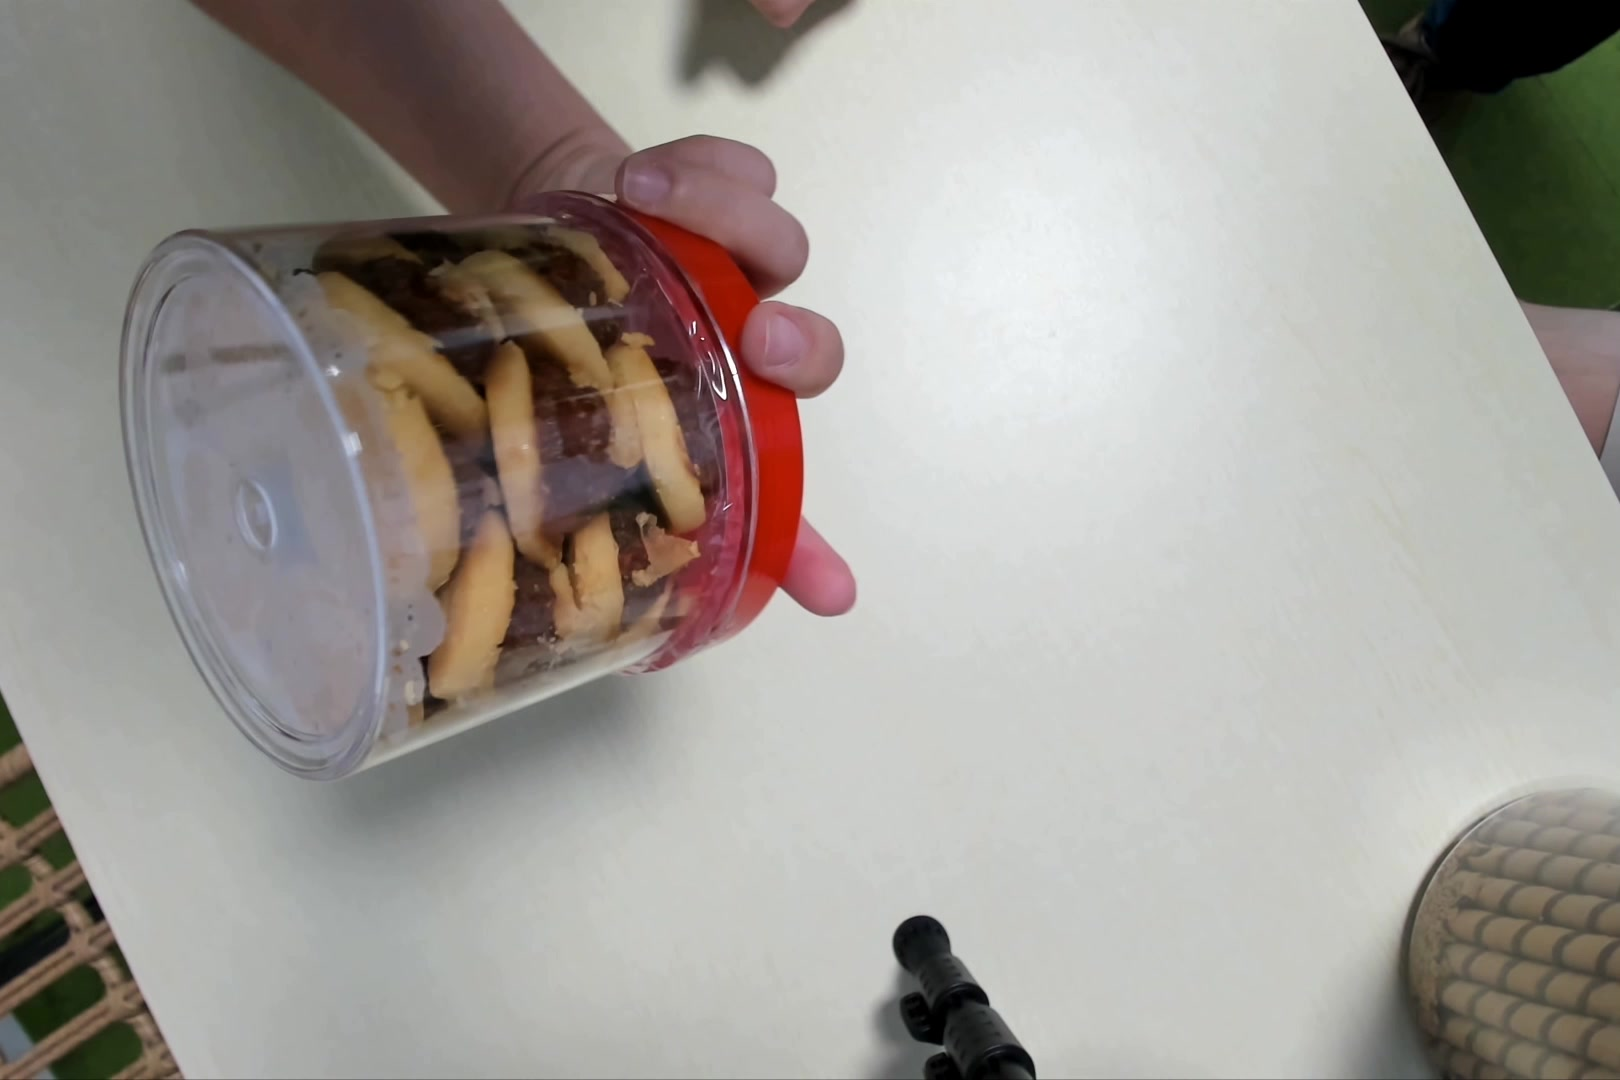BiscuitsCrackersCookies_400-499g_Halal_NonHealthy: (128, 190, 802, 777)
